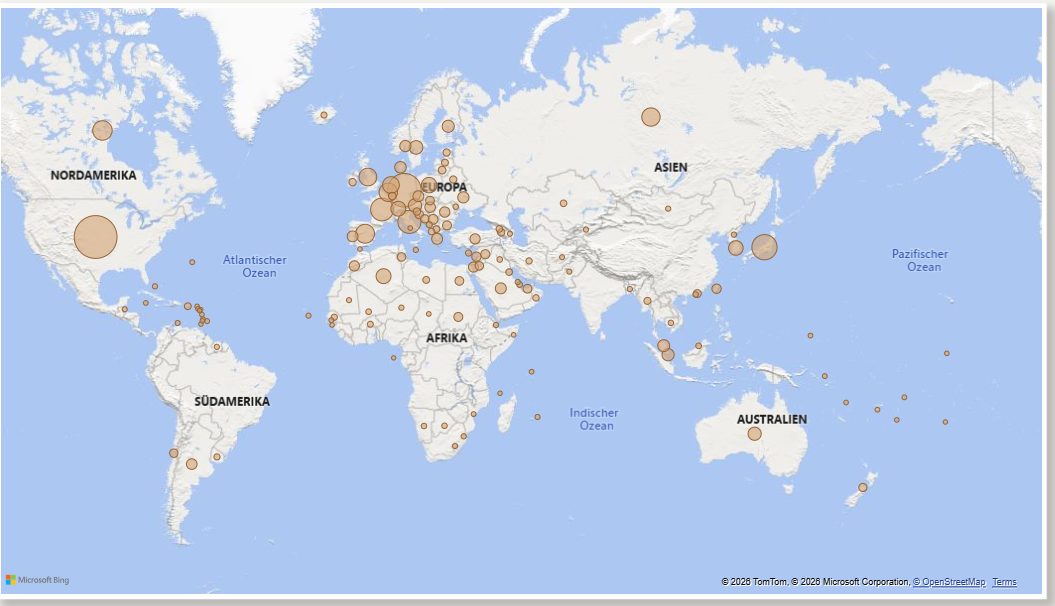

The page's visual inventory and layout, read from the dashboard file:
{"tool":"powerbi","page":{"name":"Map","canvas":[1280,720],"ordinal":2},"visuals":[{"type":"shape","box":[0,679.5,1280.8,40.5],"z":0},{"type":"actionButton","box":[0,680,75,40],"z":1000},{"type":"map","fields":{"Category":["Dim_Countries.continent Hierarchia.continent","Dim_Countries.continent Hierarchia.country"],"Size":["Measures Table.Total Export Volume"]},"box":[205,16.2,1058.8,601.2],"z":2000},{"type":"slicer","fields":{"Values":["Selection.Selection"]},"box":[0,15.7,205.7,104.3],"z":3000},{"type":"slicer","fields":{"Values":["Dim_Countries.continent"]},"box":[205.7,625.7,1074.3,54.3],"z":4000},{"type":"slicer","fields":{"Values":["Dim_Date.year"]},"box":[26.2,120,180,548.8],"z":5000},{"type":"actionButton","box":[1029.9,679.7,49.3,40],"z":6000},{"type":"actionButton","box":[1128.5,679.1,49.3,39.3],"z":7000},{"type":"actionButton","box":[1079.2,679.7,49.3,40],"z":8000},{"type":"actionButton","box":[1223.2,679.7,49.3,40],"z":9000},{"type":"actionButton","box":[1177.9,681.1,45.3,35.3],"z":10000}]}

Visuals, with their boxes in screenshot pixels (x1, y1, x2, y2), scaled from the page's 1280x720 canvas onto the 1055x606 screenshot:
shape: region(0, 572, 1054, 605)
actionButton: region(0, 572, 62, 605)
map - Dim_Countries.continent Hierarchia.continent x Dim_Countries.continent Hierarchia.country: region(169, 14, 1042, 520)
slicer - Selection.Selection: region(0, 13, 170, 101)
slicer - Dim_Countries.continent: region(170, 527, 1054, 572)
slicer - Dim_Date.year: region(22, 101, 170, 563)
actionButton: region(849, 572, 889, 605)
actionButton: region(930, 572, 971, 605)
actionButton: region(889, 572, 930, 605)
actionButton: region(1008, 572, 1049, 605)
actionButton: region(971, 573, 1008, 603)
